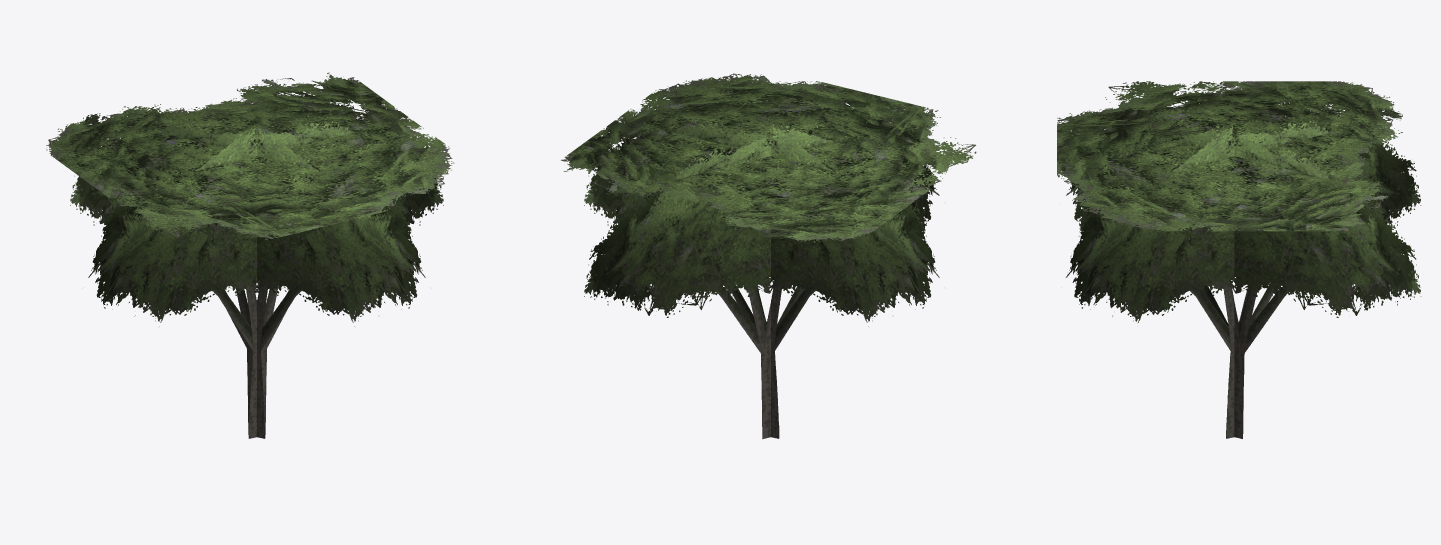
The model's file is tree_jacaranda_lod1.glb.
The picture shows the model from 3 angles, left to right: view 1: azimuth 30°, elevation 25°; view 2: azimuth 150°, elevation 25°; view 3: azimuth 270°, elevation 25°; orthographic projection.
Visible parts, largest first — view 1: tree_jacaranda_lod1; view 2: tree_jacaranda_lod1; view 3: tree_jacaranda_lod1.
Boxes of the visible parts, left/top/right/bottom form: tree_jacaranda_lod1: left=46, top=72, right=454, bottom=438; tree_jacaranda_lod1: left=561, top=73, right=976, bottom=439; tree_jacaranda_lod1: left=1057, top=81, right=1421, bottom=438.
Bounding box in the file's own units: 11.69 × 9.57 × 10.12.
Materials: 1 (1 with a texture image).
